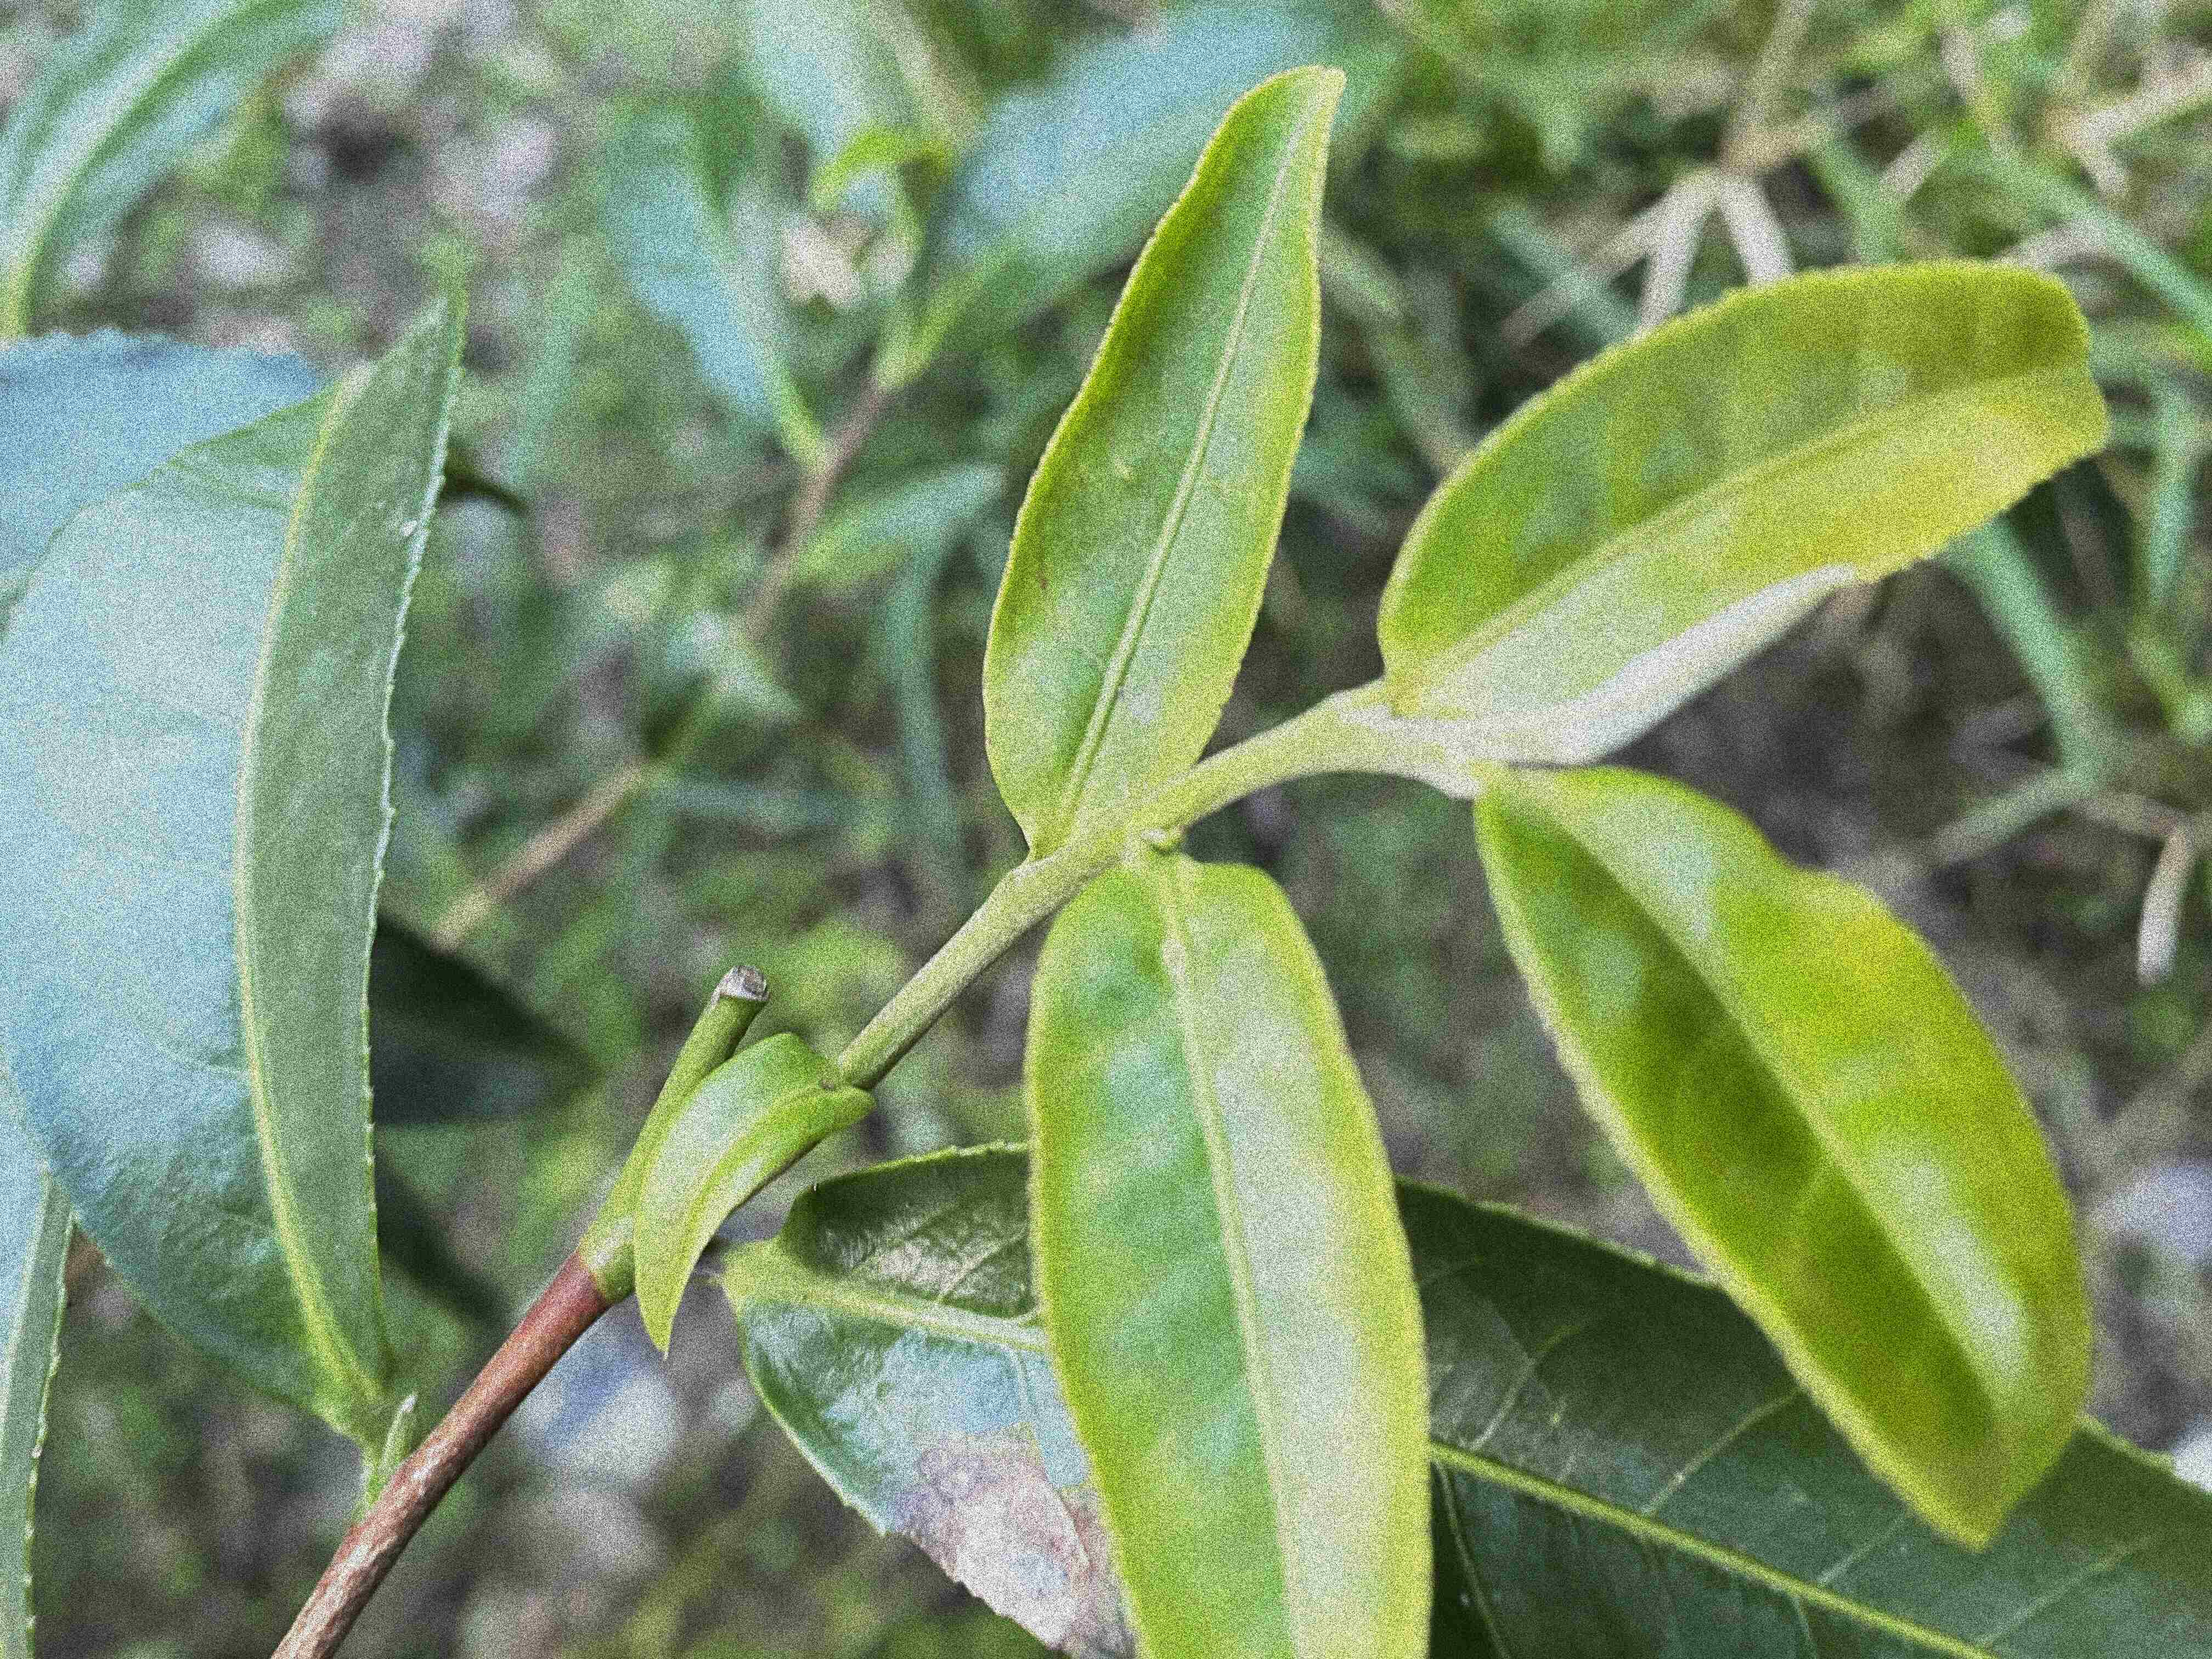healthy: (1467, 755, 2099, 1558), (1379, 261, 2118, 730), (970, 64, 1359, 868)
tanju_high: (737, 1138, 2209, 1656)
tanju_low: (7, 282, 481, 1436)
